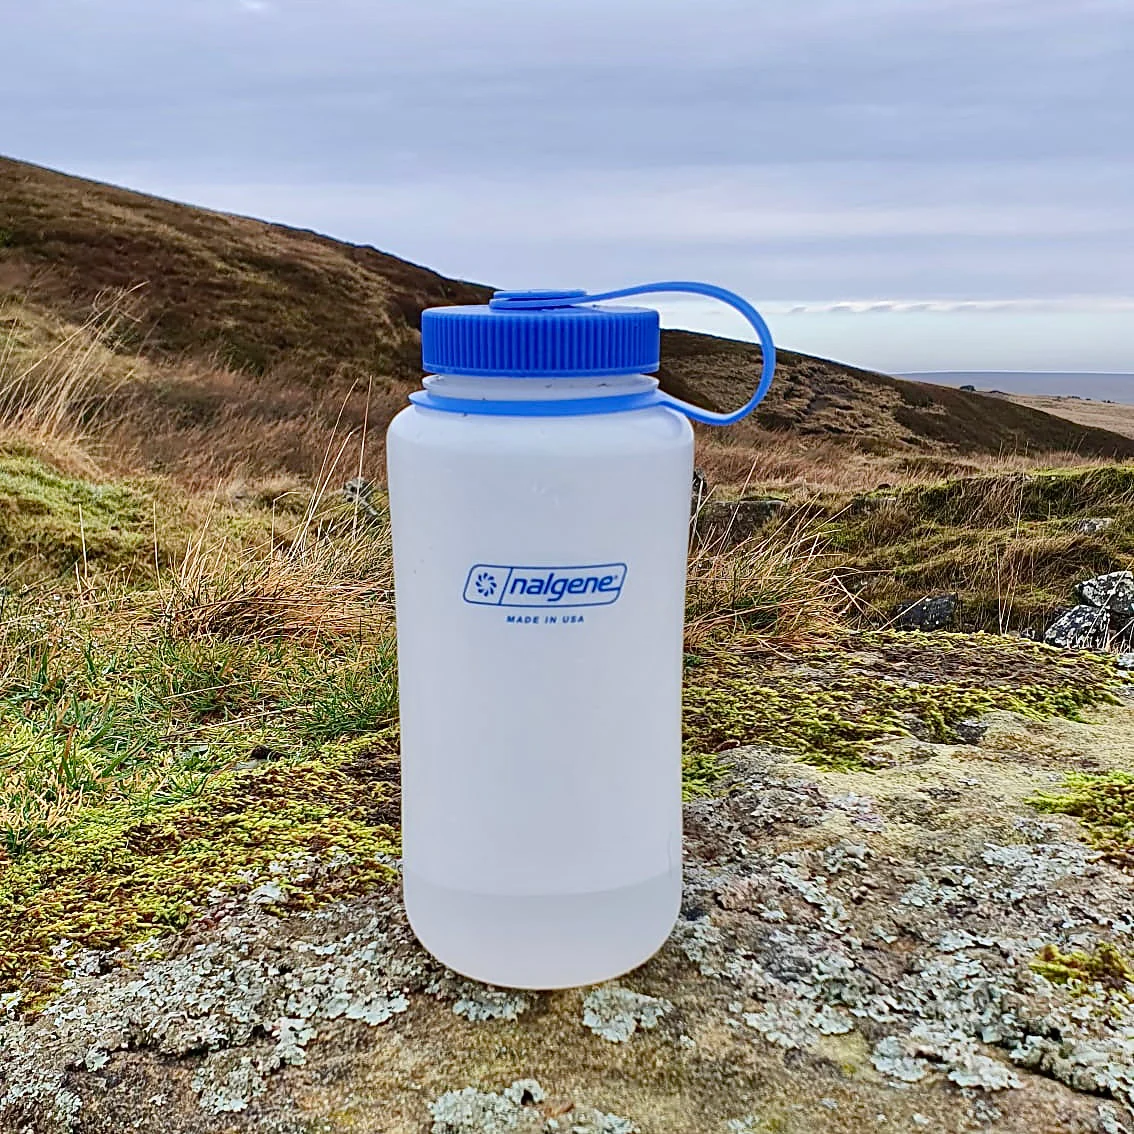bottle: (385, 279, 776, 992)
